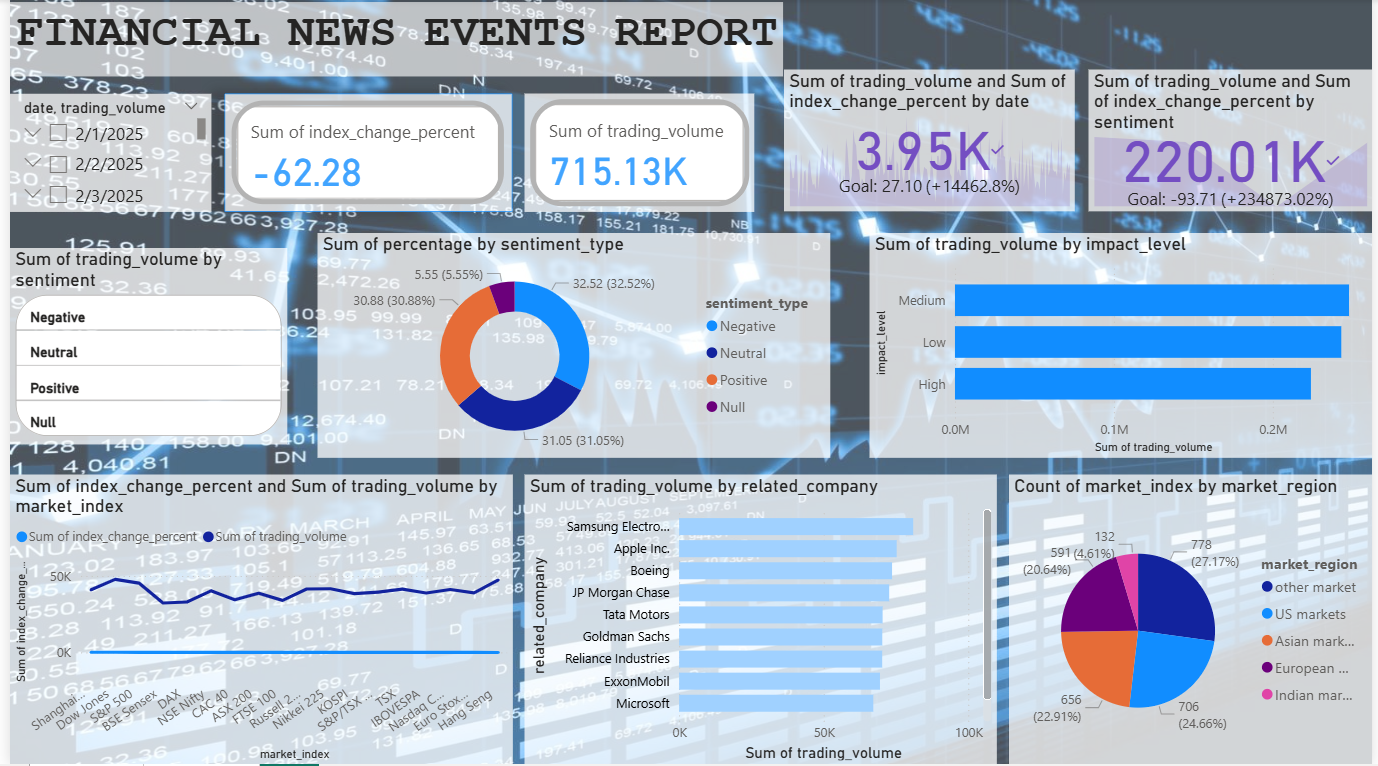

The dashboard page shown, as its layout file describes it:
{"tool":"powerbi","page":{"name":"Page 2","canvas":[1280,720],"ordinal":1},"visuals":[{"type":"kpi","fields":{"Indicator":["Sum(financial sentiments.trading_volume)"],"TrendLine":["financial sentiments.date"],"Goal":["Sum(financial sentiments.index_change_percent)"]},"box":[726.9,66.8,273.6,133.6],"z":0},{"type":"cardVisual","fields":{"Data":["Sum(financial sentiments.index_change_percent)"]},"box":[202,89.1,270.4,111.3],"z":1000},{"type":"cardVisual","fields":{"Data":["Sum(financial sentiments.trading_volume)"]},"box":[483.5,89.1,216.3,111.3],"z":2000},{"type":"slicer","fields":{"Values":["financial sentiments.date","financial sentiments.trading_volume"]},"box":[0,89.1,189.3,111.3],"z":3000},{"type":"donutChart","fields":{"Category":["financial sentiment_summary.sentiment_type"],"Y":["Sum(financial sentiment_summary.percentage)"]},"box":[289.5,219.5,482,211.6],"z":4000},{"type":"barChart","fields":{"Category":["financial sentiments.impact_level"],"Y":["Sum(financial sentiments.trading_volume)"]},"box":[808,219.5,472.4,211.6],"z":5000},{"type":"lineChart","fields":{"Category":["financial sentiments.market_index"],"Y":["Sum(financial sentiments.index_change_percent)","Sum(financial sentiments.trading_volume)"]},"box":[0,447,472.4,273.6],"z":6000},{"type":"advancedSlicerVisual","fields":{"Values":["financial sentiments.sentiment"]},"box":[0,233.8,260.9,184.5],"z":7000},{"type":"barChart","fields":{"Category":["financial sentiments.related_company"],"Y":["Sum(financial sentiments.trading_volume)"]},"box":[483.5,447,443.8,273.6],"z":8000},{"type":"kpi","fields":{"Indicator":["Sum(financial sentiments.trading_volume)"],"Goal":["Sum(financial sentiments.index_change_percent)"],"TrendLine":["financial sentiments.sentiment"]},"box":[1013.2,66.8,267.2,133.6],"z":9000},{"type":"pieChart","fields":{"Category":["financial sentiments.market_region"],"Y":["CountNonNull(financial sentiments.market_index)"]},"box":[938.5,447,342,273.6],"z":10000},{"type":"textbox","box":[0,3.2,726.9,70],"z":11000}]}

Visuals, with their boxes in screenshot pixels (x1, y1, x2, y2), scaled from the page's 1280x720 canvas onto the 1378x766 screenshot:
kpi - Sum(financial sentiments.trading_volume) x financial sentiments.date: locate(783, 71, 1077, 213)
cardVisual - Sum(financial sentiments.index_change_percent): locate(217, 95, 509, 213)
cardVisual - Sum(financial sentiments.trading_volume): locate(521, 95, 753, 213)
slicer - financial sentiments.date x financial sentiments.trading_volume: locate(0, 95, 204, 213)
donutChart - financial sentiment_summary.sentiment_type x Sum(financial sentiment_summary.percentage): locate(312, 234, 831, 459)
barChart - financial sentiments.impact_level x Sum(financial sentiments.trading_volume): locate(870, 234, 1377, 459)
lineChart - financial sentiments.market_index x Sum(financial sentiments.index_change_percent): locate(0, 476, 509, 765)
advancedSlicerVisual - financial sentiments.sentiment: locate(0, 249, 281, 445)
barChart - financial sentiments.related_company x Sum(financial sentiments.trading_volume): locate(521, 476, 998, 765)
kpi - Sum(financial sentiments.trading_volume) x Sum(financial sentiments.index_change_percent): locate(1091, 71, 1377, 213)
pieChart - financial sentiments.market_region x CountNonNull(financial sentiments.market_index): locate(1010, 476, 1377, 765)
textbox: locate(0, 3, 783, 78)
